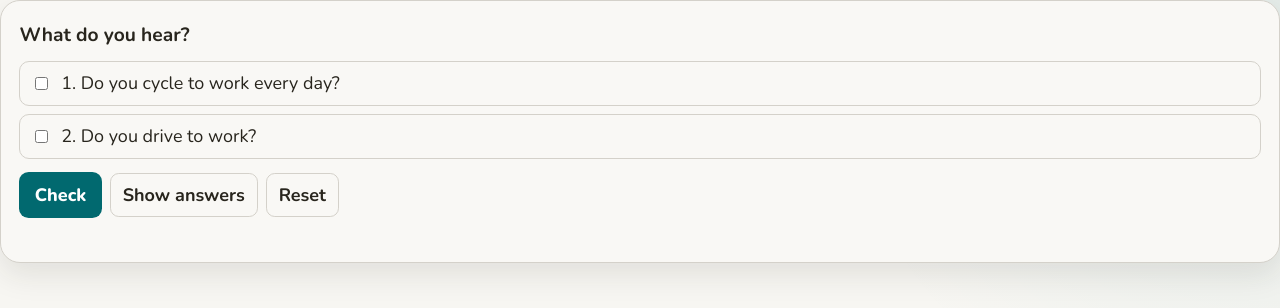
Test: TickListSection › shows text score status after Check
Click the checkbox labelled "1. Do you cycle to work every day?".
click(41, 84)  # box [35,77,48,90]
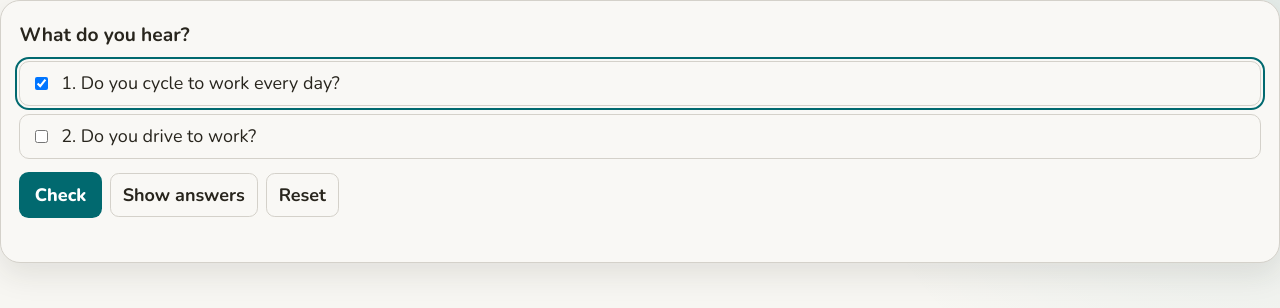
Click the button "Check".
click(61, 195)  # box [19,172,102,218]
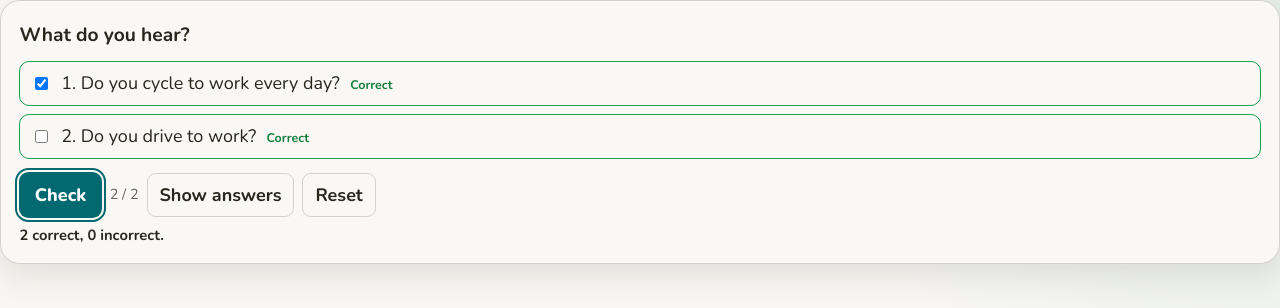
Now the message shows "correct", box [19,225,164,245]
Now the message shows "incorrect", box [19,225,164,245]
